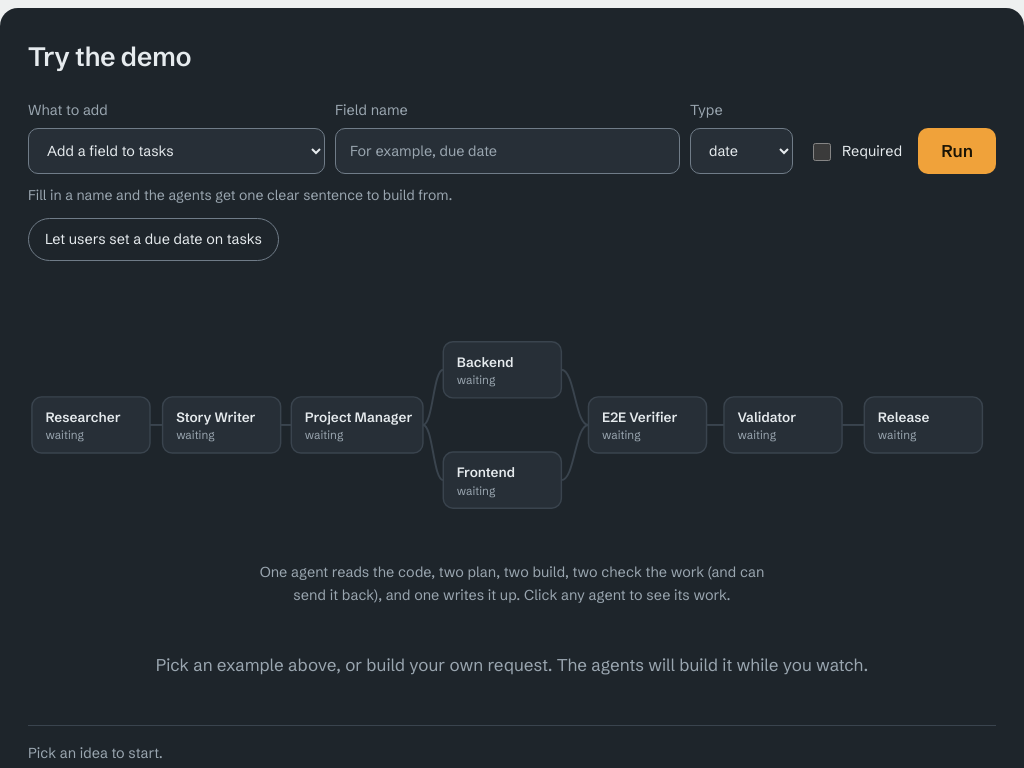
Test case: Stage › sends a typed idea to the server, labels it Simulated, and ends with a plain summary
Type "nickname" into the field labelled "Field name" at x=508, y=151, box [335, 128, 680, 174]
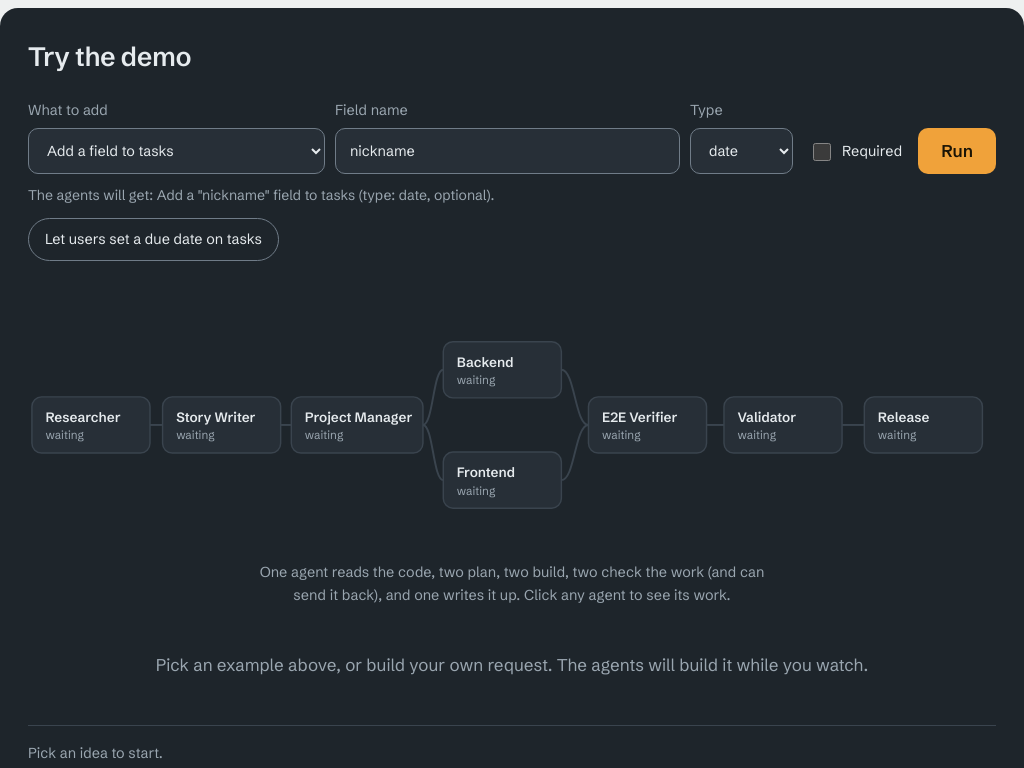
Click the button "Run" at x=957, y=151, box [918, 128, 996, 174]
(page scrolled)
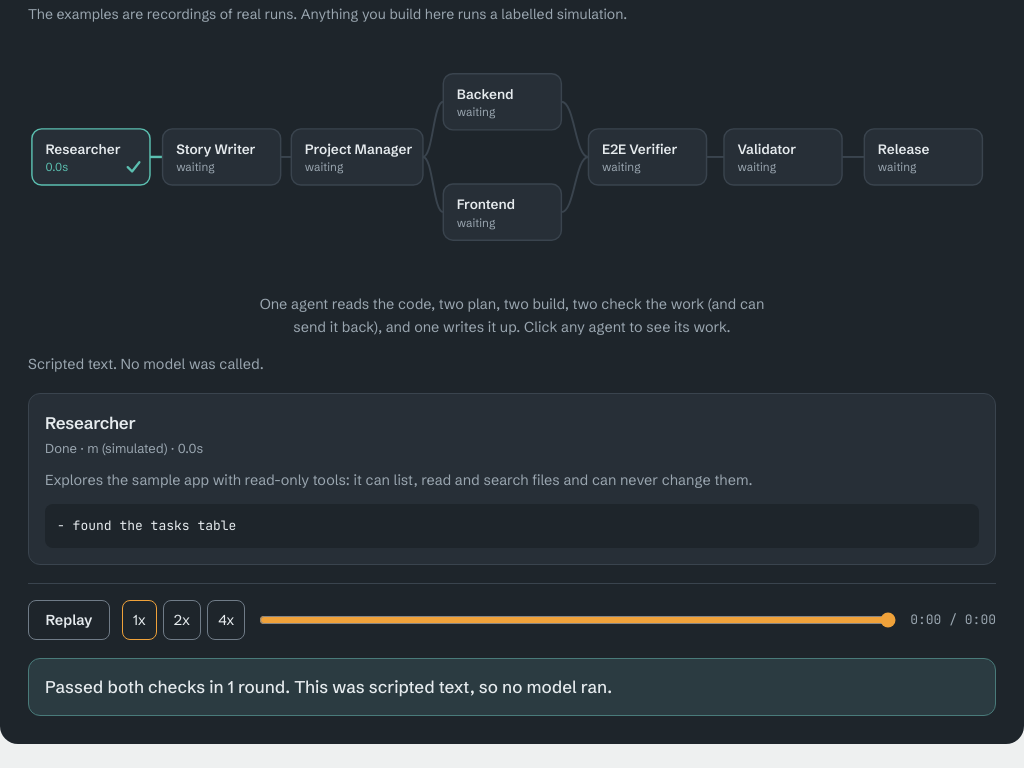
Check: the text "This was scripted text, so no model ran" is shown, box [45, 676, 612, 697]
Check: the slider named "Scrub through the run" is shown, box [259, 612, 896, 628]
